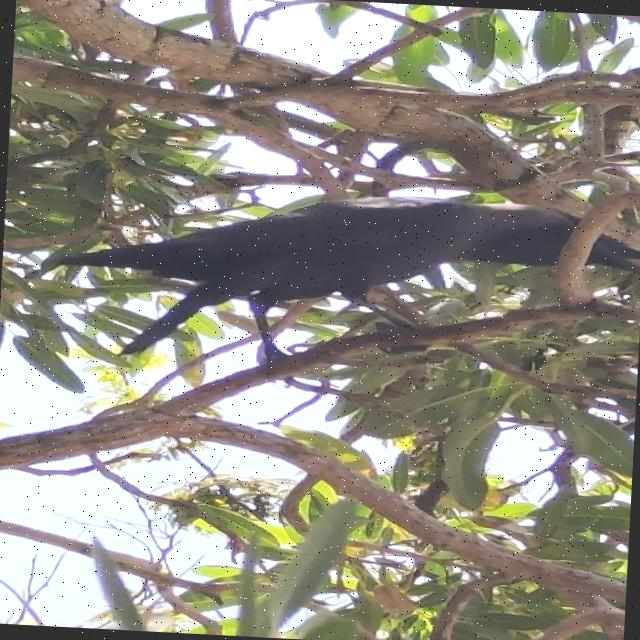crow: (28, 177, 640, 410)
